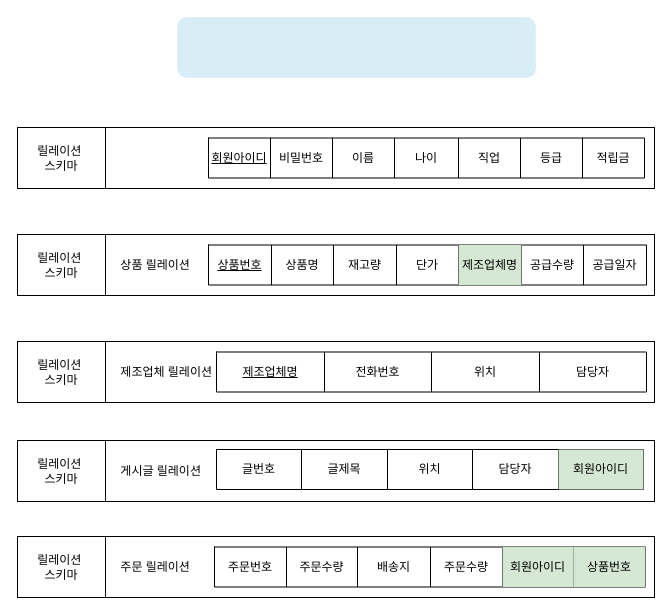
Some shapes in this 672 by 615 pixel diagram are drawn without their labels. The box of each missing label's shape, as (x1, y1, x2, y2) in pixels:
3단계 논리적 설계: (177, 17, 535, 77)
회원 릴레이션: (104, 126, 654, 188)
